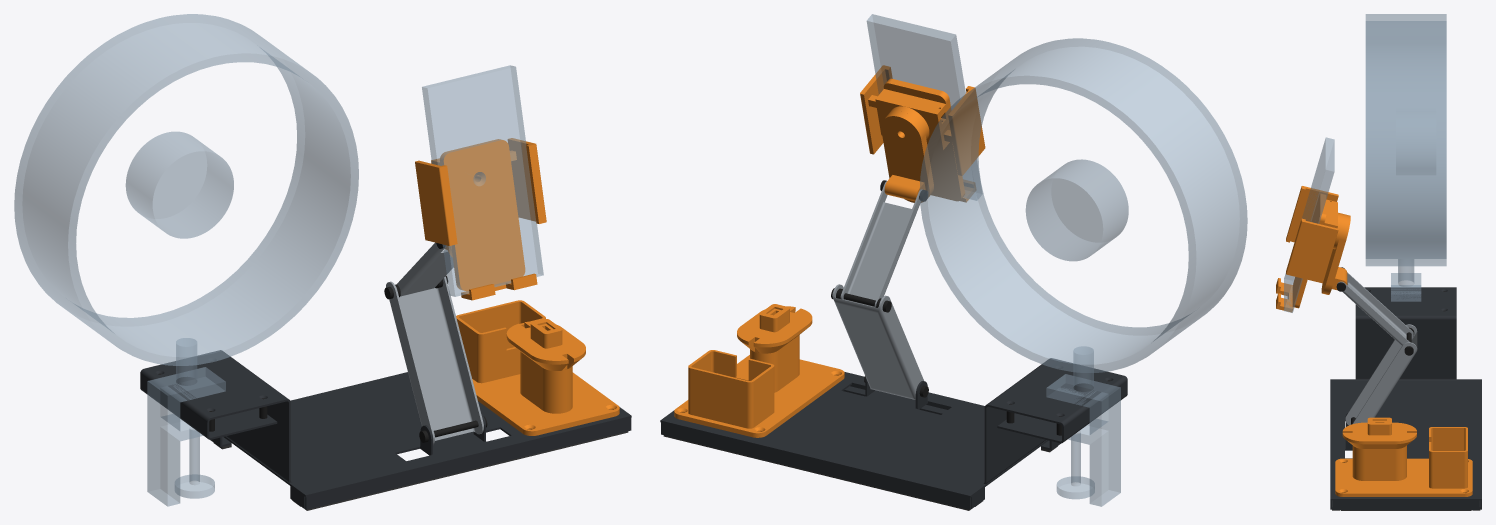
Rendered from phone_stand_fold.glb.
3 renders of one model, left to right at view 1: azimuth 30°, elevation 25°; view 2: azimuth 150°, elevation 25°; view 3: azimuth 270°, elevation 25°, orthographic. The views are drawn at different scales.
Parts seen in each view (by area): view 1: phone_stand_fold (×6); view 2: phone_stand_fold (×6); view 3: phone_stand_fold (×5).
Part boxes in pixels (x1,y1,x2,y2): phone_stand_fold (×6): (14,14,631,510); phone_stand_fold (×6): (660,14,1247,510); phone_stand_fold (×5): (1276,14,1481,509).
Bounding box in the file's own units: 0.464 × 0.373 × 0.2038.
